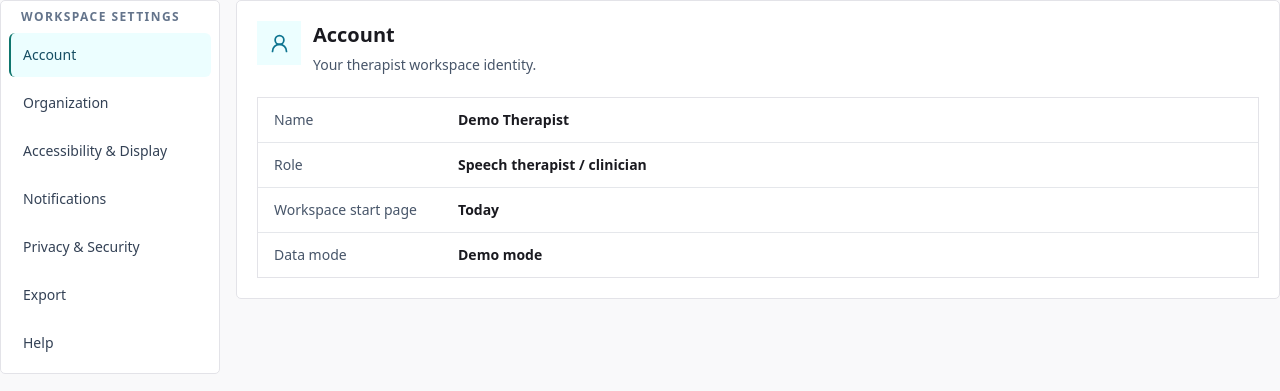
Scenario: SettingsWorkspaceClient admin lifecycle UX › renders one therapist category at a time and no admin navigation
Expected: the heading "Account" is shown, [313, 21, 395, 48]
Expected: the link "Organization" is shown, [23, 93, 108, 112]
Click the link "Accessibility & Display" at [95, 150], box [23, 141, 167, 160]
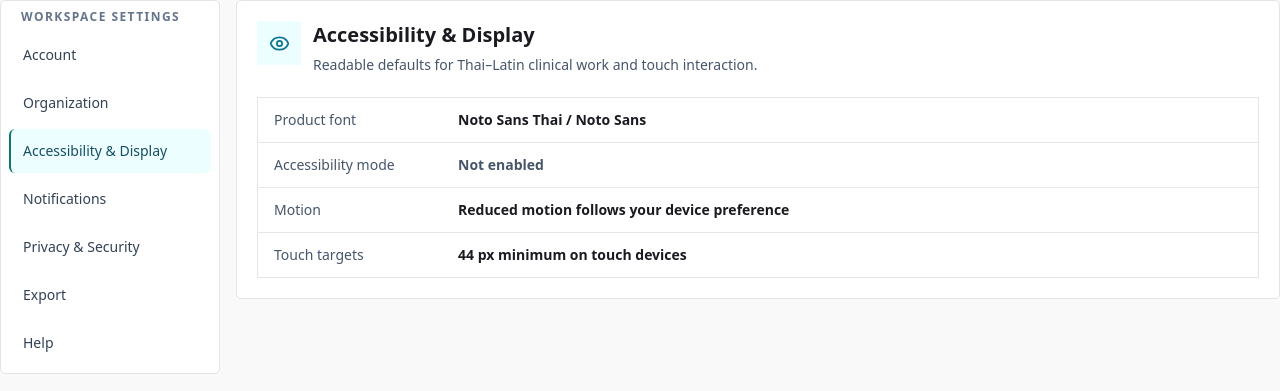
Now the heading "Accessibility & Display" is shown, box [313, 21, 535, 48]
